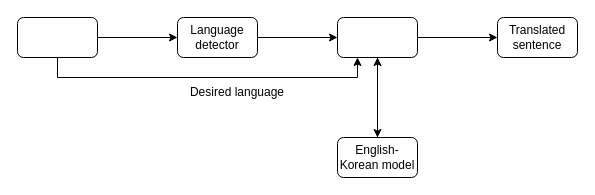
This 595x195 diagram has some shape labels left out. The shapes that lost their labels are listed below. From the top down, each one's box as (x1, y1, x2, y2) in pixels, then its label:
(16, 16, 98, 58): Input sentence
(336, 16, 418, 58): Translation service
